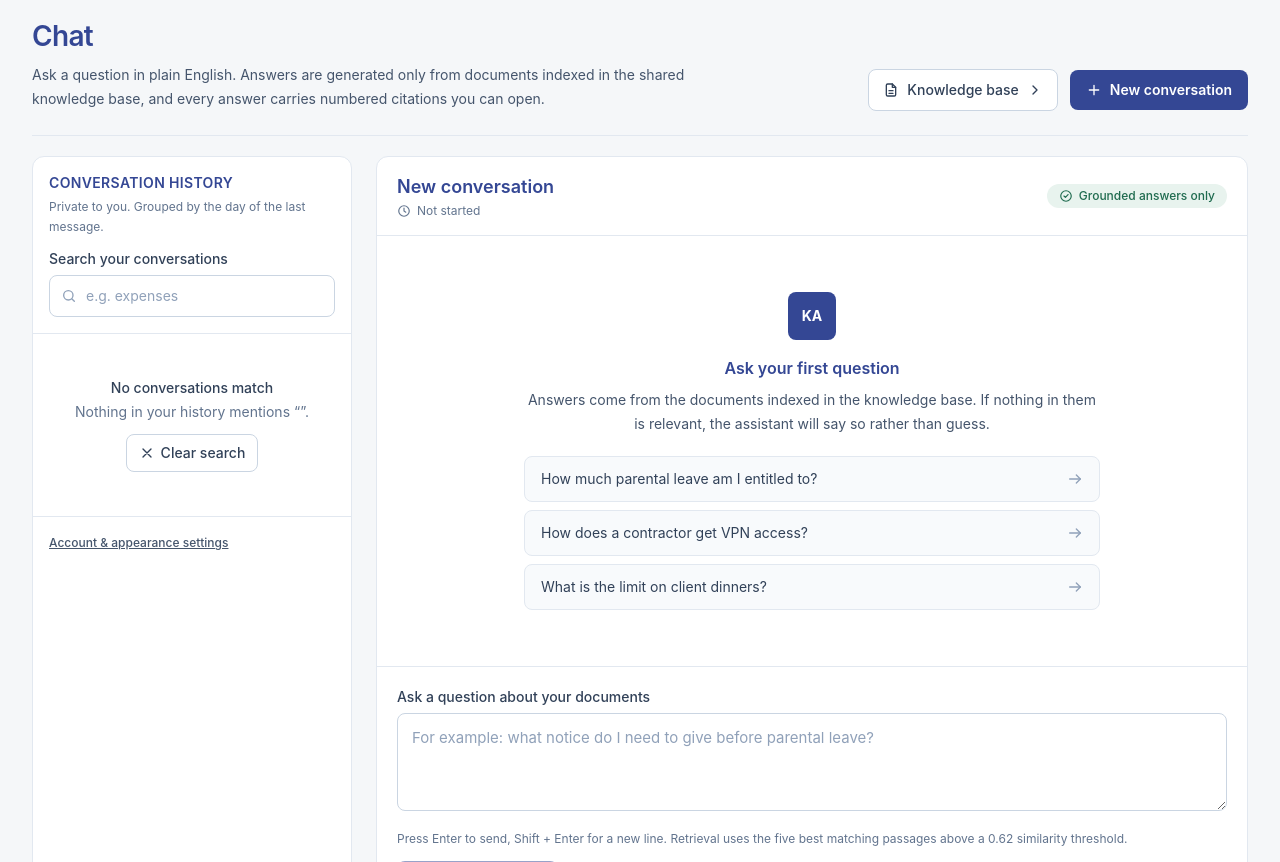
Scenario: Chat screen › AC-063/AC-064: no_match shows the backend's message, no source chips, and no general-knowledge answer
Type "What is the meaning of life?" into the text box labelled "Ask a question about your documents" at (812,762), box [397,713,1227,811]
(page scrolled)
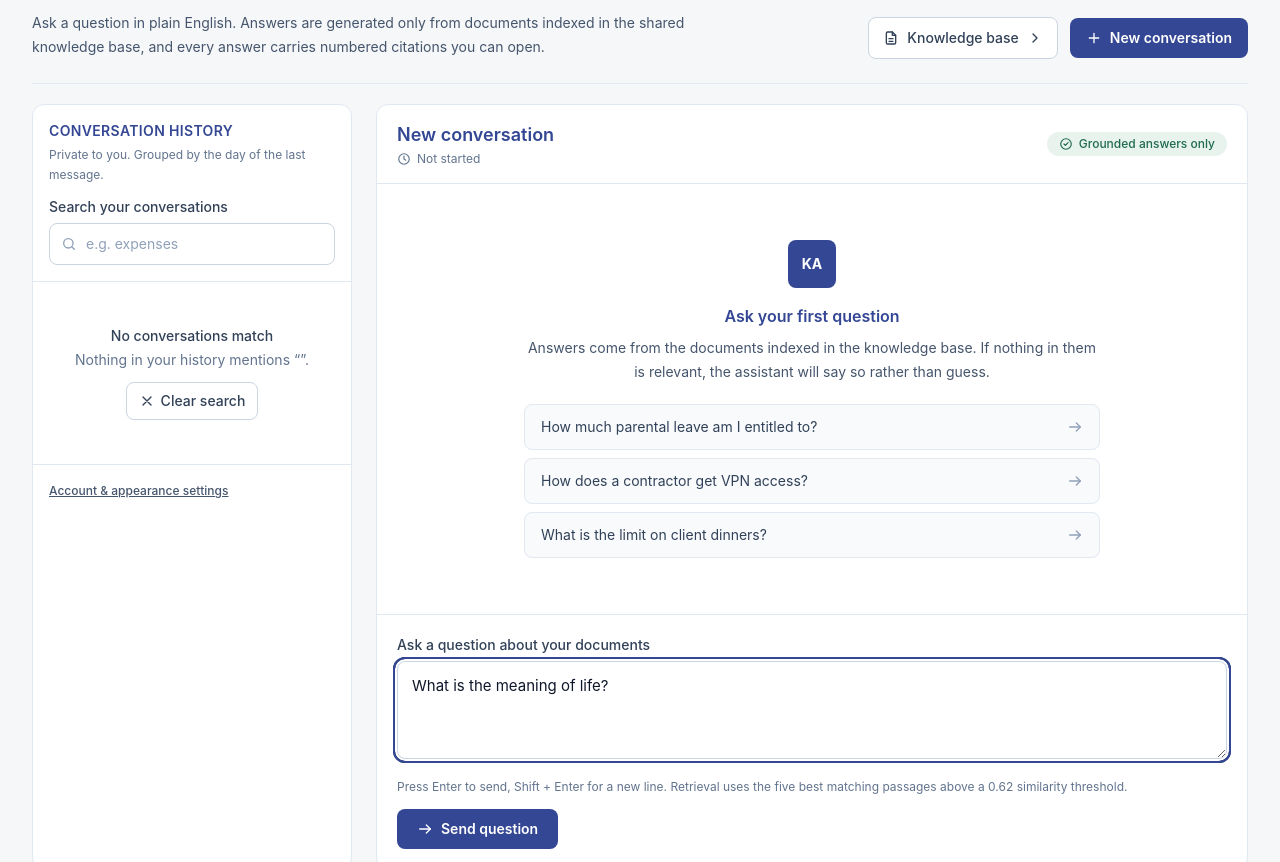
Click the button "Send question" at (478,829), box [397,809,558,849]
(page scrolled)
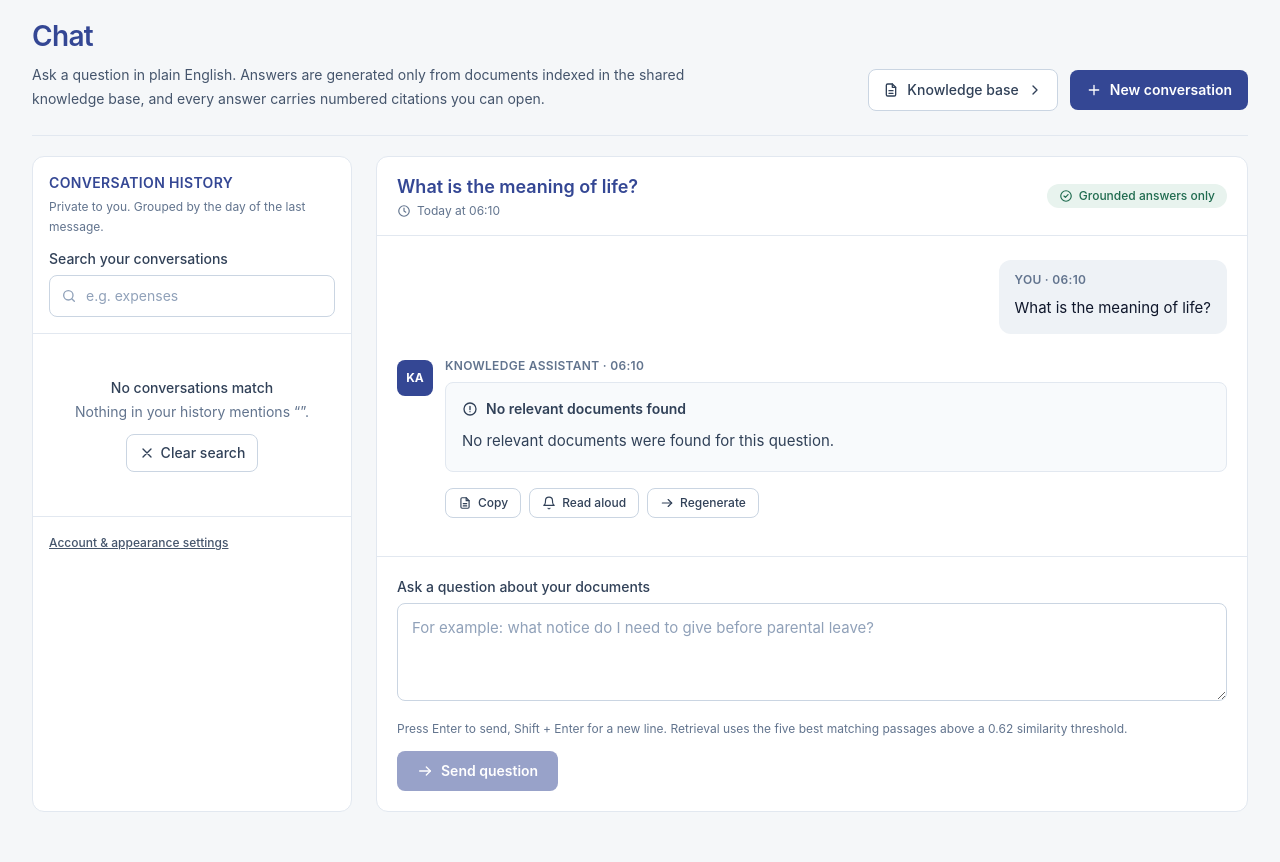
Check: the text "No relevant documents were found for this question." is shown, box [462,431,834,450]
